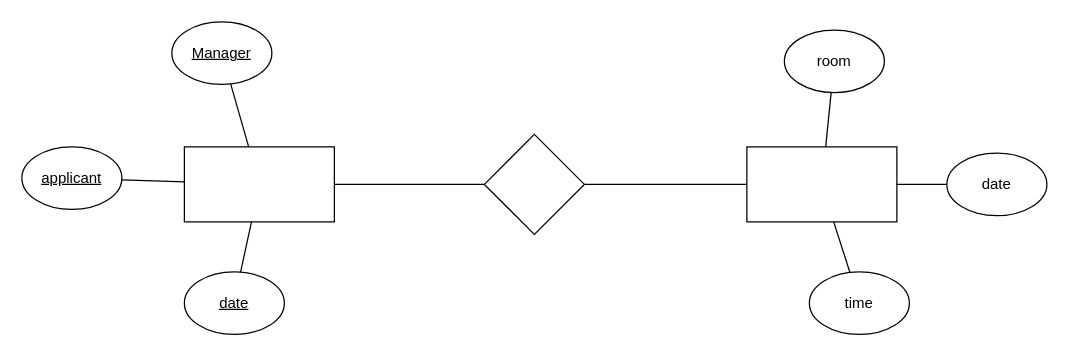
This 1069x356 diagram has some shape labels left out. Each missing label, with the box of its shape:
day: (746, 146, 897, 222)
Interviews: (183, 146, 334, 222)
occurs in: (483, 133, 584, 234)
